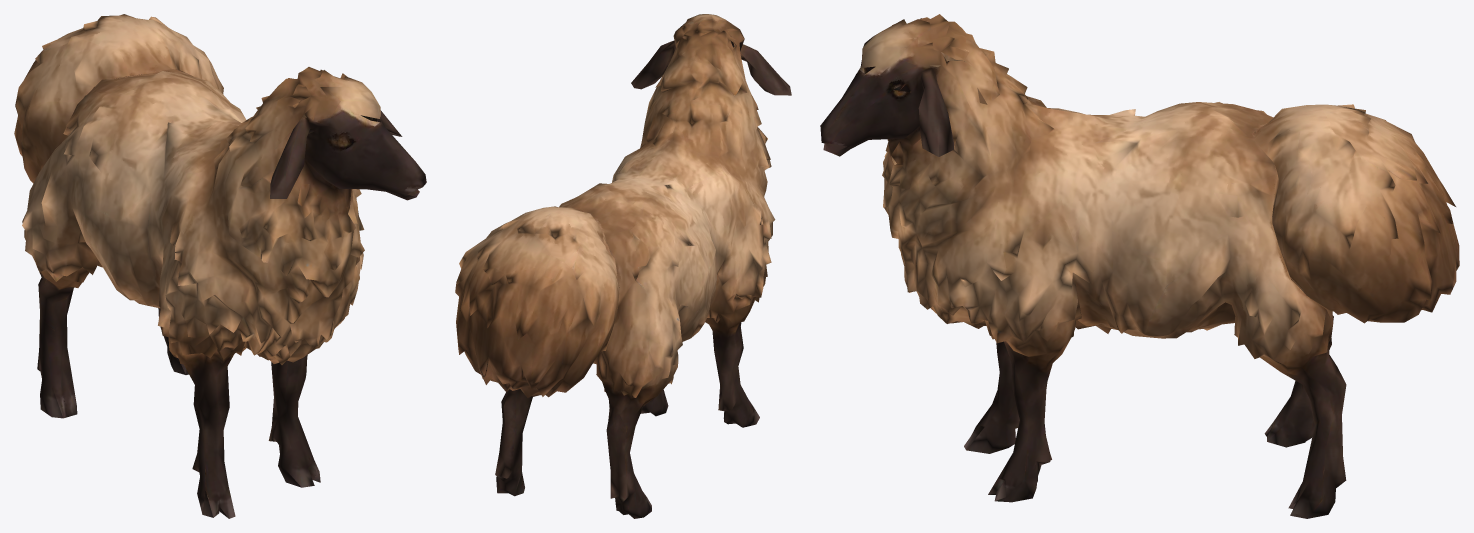
File: sheep.glb
3 renders of one model, left to right at view 1: azimuth 30°, elevation 25°; view 2: azimuth 150°, elevation 25°; view 3: azimuth 270°, elevation 25°, orthographic. The views are drawn at different scales.
Visible parts, largest first — view 1: sheep.raw; view 2: sheep.raw; view 3: sheep.raw.
Boxes of the visible parts, x1,y1,x2,y2 form: sheep.raw: (14, 14, 426, 518); sheep.raw: (455, 14, 791, 518); sheep.raw: (820, 14, 1459, 518).
Size of the model in its own units: 0.5039 by 0.95 by 1.18.
Materials: 1 (1 with a texture image).
